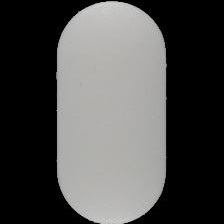63629-1396: (0, 0, 224, 224)
